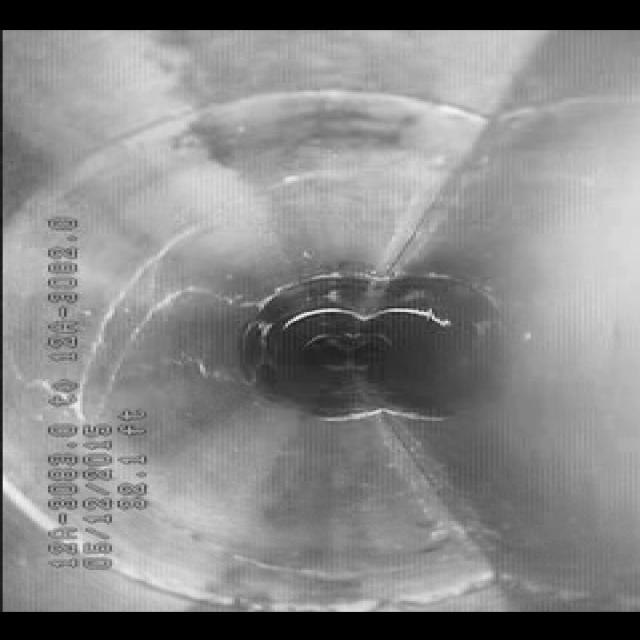Fracture: (86, 240, 227, 348)
